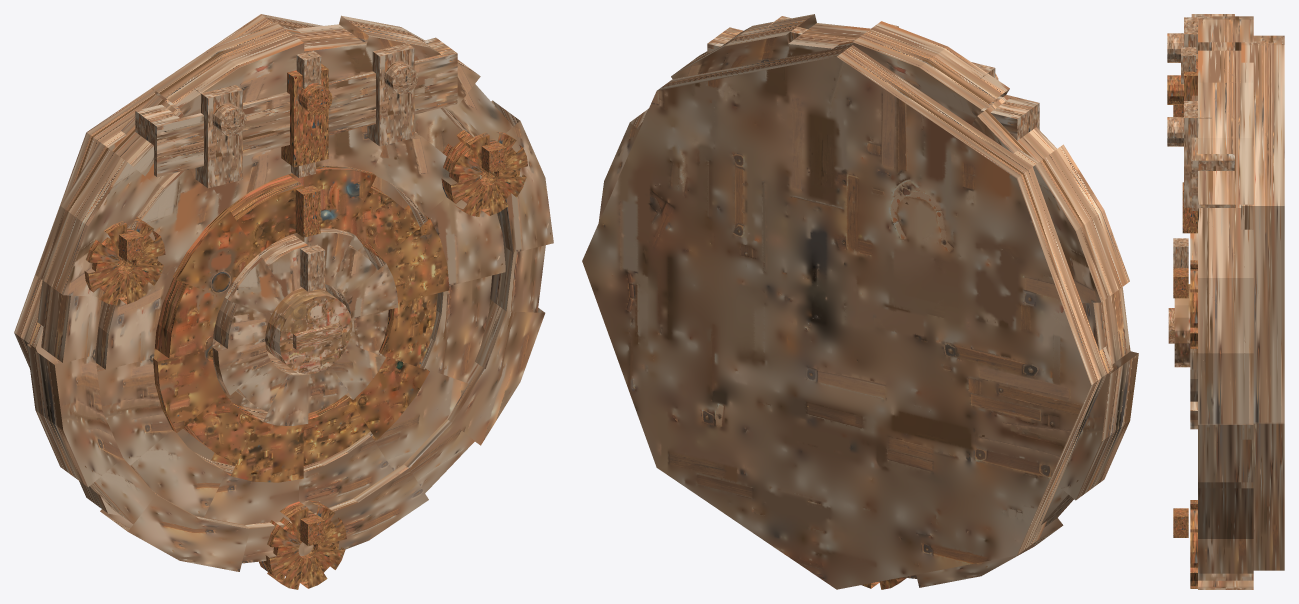
The model's file is M1_鲁班三环风门机关.glb.
3 renders of one model, left to right at view 1: azimuth 30°, elevation 25°; view 2: azimuth 150°, elevation 25°; view 3: azimuth 270°, elevation 25°, orthographic. The views are drawn at different scales.
Visible parts, largest first — view 1: Frame_Base, Ring_0, Ring_1, Ring_2, Core_Spindle, Gear_0, Gear_2, Gear_1, Latch_2, Latch_0, Latch_1; view 2: Frame_Base; view 3: Frame_Base, Latch_2, Core_Spindle, Ring_2, Gear_0, Gear_2, Latch_0, Latch_1, Ring_1.
Boxes of the visible parts, x1,y1,x2,y2 form: Frame_Base: [14, 14, 553, 571]; Ring_0: [95, 126, 505, 524]; Ring_1: [153, 166, 449, 482]; Ring_2: [212, 228, 398, 426]; Core_Spindle: [265, 287, 352, 373]; Gear_0: [441, 130, 527, 216]; Gear_2: [259, 500, 346, 589]; Gear_1: [84, 217, 165, 305]; Latch_2: [367, 38, 418, 146]; Latch_0: [194, 85, 246, 188]; Latch_1: [281, 64, 332, 167]; Frame_Base: [582, 14, 1138, 589]; Frame_Base: [1181, 14, 1284, 589]; Latch_2: [1167, 101, 1211, 207]; Core_Spindle: [1168, 284, 1190, 367]; Ring_2: [1173, 233, 1197, 429]; Gear_0: [1173, 260, 1197, 348]; Gear_2: [1173, 500, 1197, 588]; Latch_0: [1167, 17, 1211, 62]; Latch_1: [1167, 59, 1197, 104]; Ring_1: [1182, 182, 1197, 233].
Bounding box in the file's own units: 0.93 × 0.967 × 0.1895.
3 materials, 3 textured.
